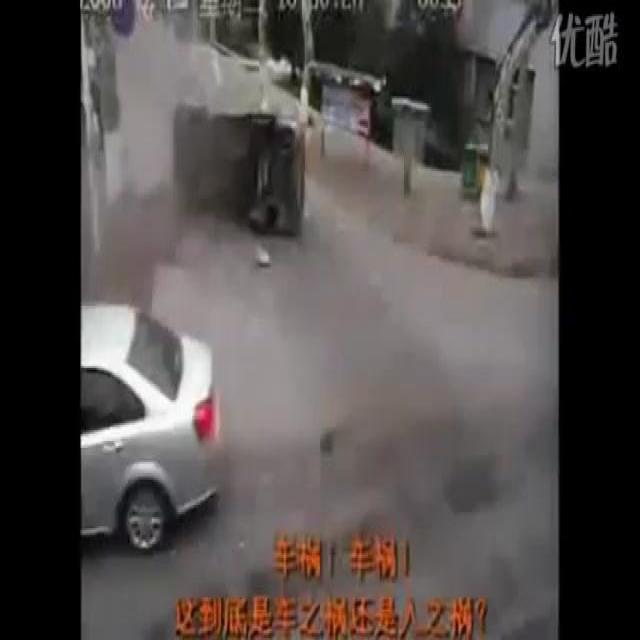accident: (166, 90, 309, 241)
